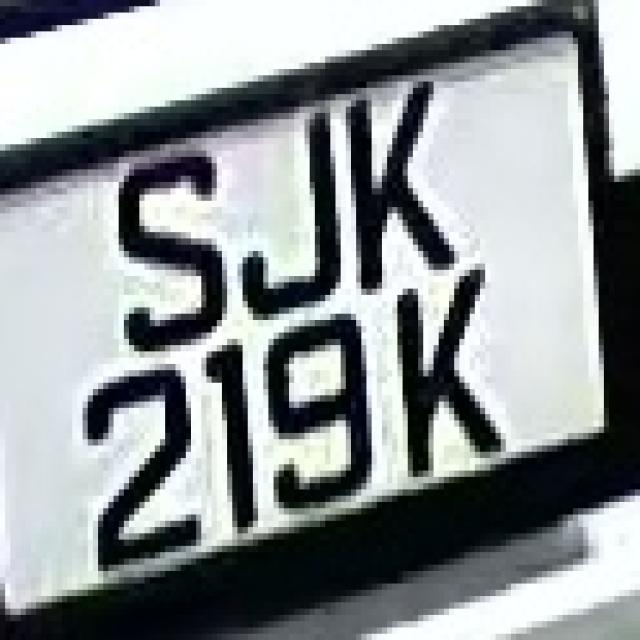1: (196, 320, 274, 546)
2: (67, 364, 207, 583)
9: (258, 295, 377, 527)
J: (222, 69, 351, 326)
K: (367, 270, 516, 489), (330, 56, 460, 295)
S: (109, 119, 232, 370)
